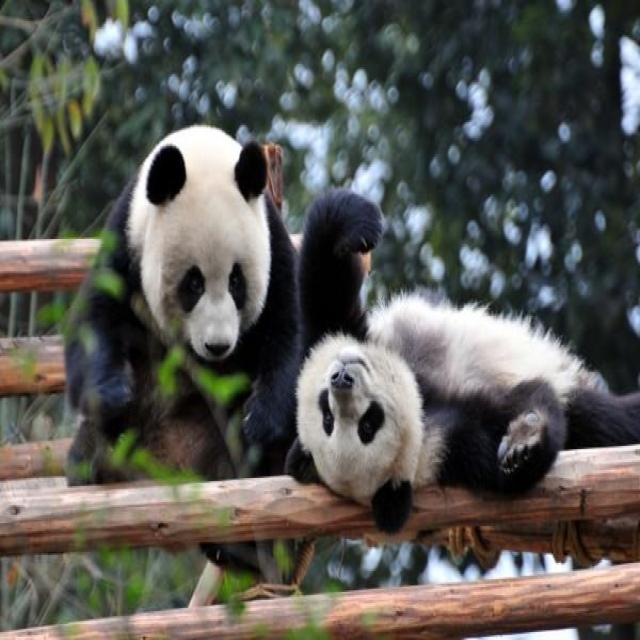panda: (66, 110, 589, 521)
